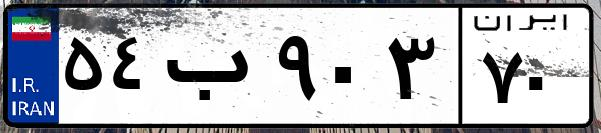0: (330, 28, 385, 110), (525, 38, 570, 115)
3: (385, 28, 445, 110)
4: (110, 28, 158, 98)
5: (57, 26, 110, 100)
7: (475, 38, 525, 113)
9: (270, 28, 330, 110)
ب: (158, 20, 270, 120)
